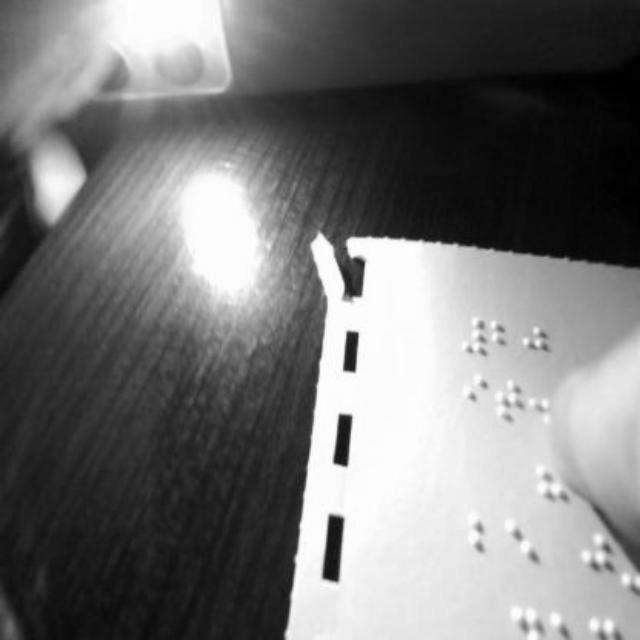braiile: (504, 516, 540, 586), (470, 514, 502, 580), (491, 374, 523, 438), (462, 373, 488, 431), (488, 316, 516, 368), (520, 321, 548, 371)
